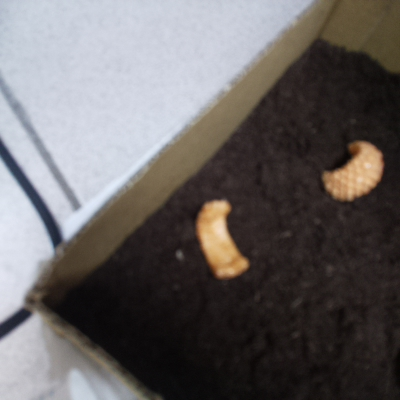eggs: (182, 198, 257, 284), (314, 136, 385, 203)
